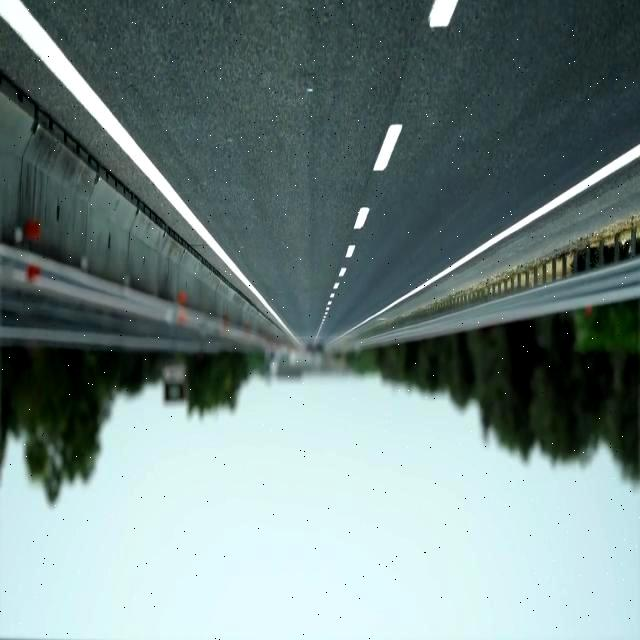lane: (0, 0, 299, 344), (340, 144, 640, 337), (374, 124, 402, 171), (429, 0, 459, 27), (354, 208, 369, 229)
road: (23, 1, 639, 343), (0, 21, 256, 303)
